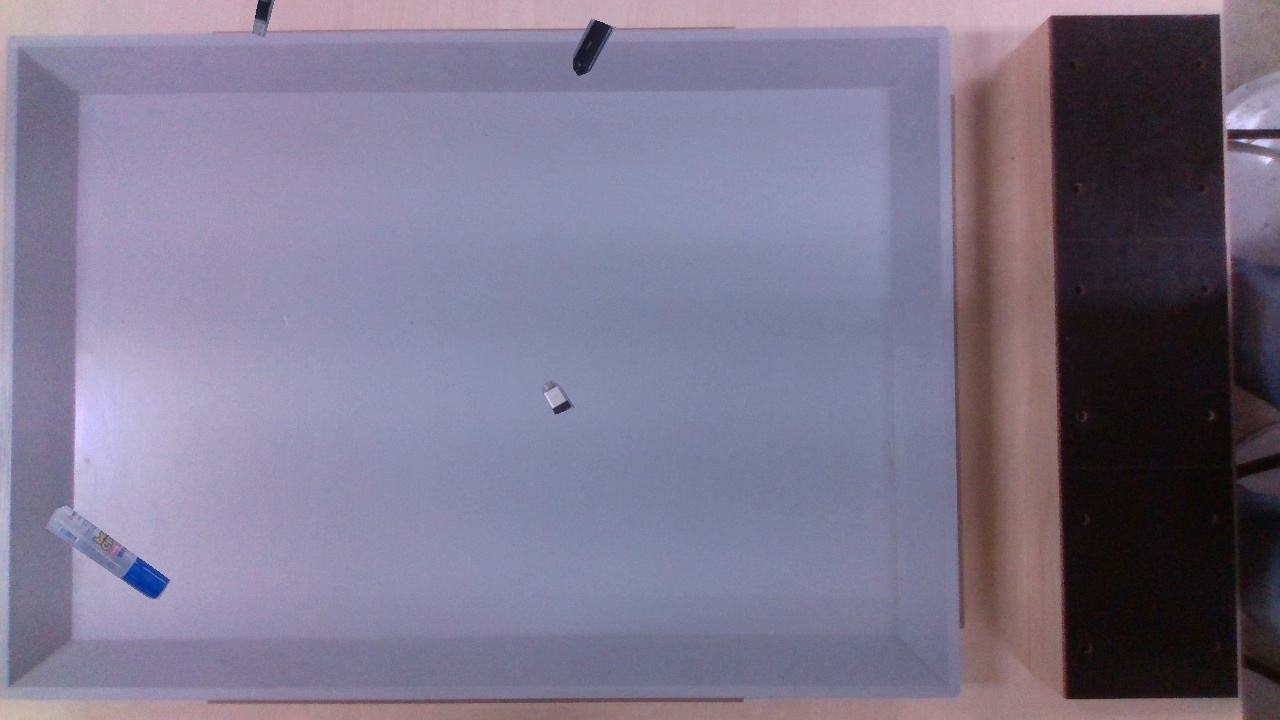Glue_pen: (45, 505, 170, 599)
Usb_Big: (573, 18, 615, 76)
Usb_c: (542, 379, 574, 414)
Usb_small: (252, 0, 274, 37)
